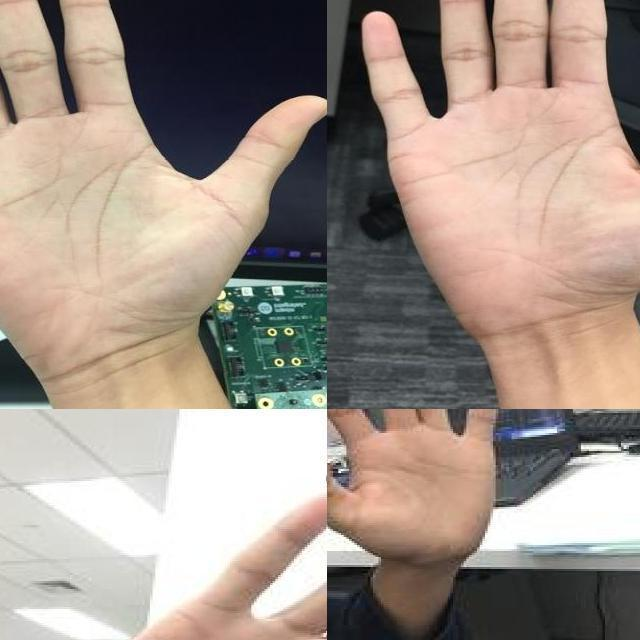hand: (0, 0, 327, 354), (361, 0, 640, 353), (41, 489, 327, 640), (327, 409, 504, 565)
